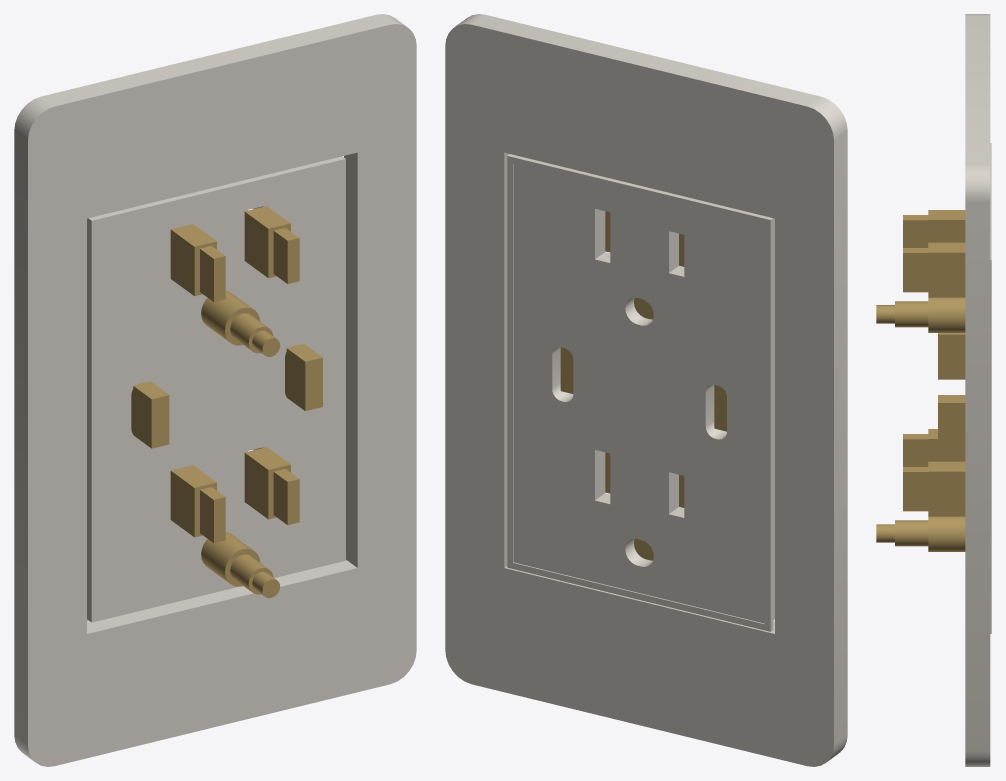
Rendered from simready-socket_a03.glb.
3 views of the same model, side by side, from view 1: azimuth 30°, elevation 25°; view 2: azimuth 150°, elevation 25°; view 3: azimuth 270°, elevation 25° (orthographic). The views are drawn at different scales.
Parts seen in each view (by area): view 1: plate, insert, terminal_base.001, terminal_base, terminal_base.002, terminal_base.003, ground_base, ground_base.001, side_terminal.001, side_terminal.002; view 2: plate, insert; view 3: plate, terminal_base.003, terminal_base.001, ground_base.001, ground_base, terminal_base, terminal_base.002, side_terminal.002, side_terminal.001, insert.
Part boxes in pixels (x1,y1,x2,y2): plate: (14, 14, 416, 766); insert: (87, 156, 345, 622); terminal_base.001: (244, 206, 299, 283); terminal_base: (170, 224, 225, 301); terminal_base.002: (170, 465, 225, 542); terminal_base.003: (244, 447, 299, 524); ground_base: (201, 290, 280, 356); ground_base.001: (201, 532, 280, 598); side_terminal.001: (131, 381, 169, 448); side_terminal.002: (285, 344, 322, 411); plate: (445, 14, 847, 766); insert: (507, 154, 774, 631); plate: (965, 14, 990, 766); terminal_base.003: (903, 461, 965, 516); terminal_base.001: (903, 242, 965, 297); ground_base.001: (876, 516, 965, 551); ground_base: (876, 297, 965, 332); terminal_base: (903, 210, 965, 247); terminal_base.002: (903, 429, 965, 466); side_terminal.002: (938, 395, 965, 447); side_terminal.001: (938, 333, 965, 379); insert: (990, 143, 991, 633).
Size of the model in its own units: 0.0658 by 0.1067 by 0.0186.
